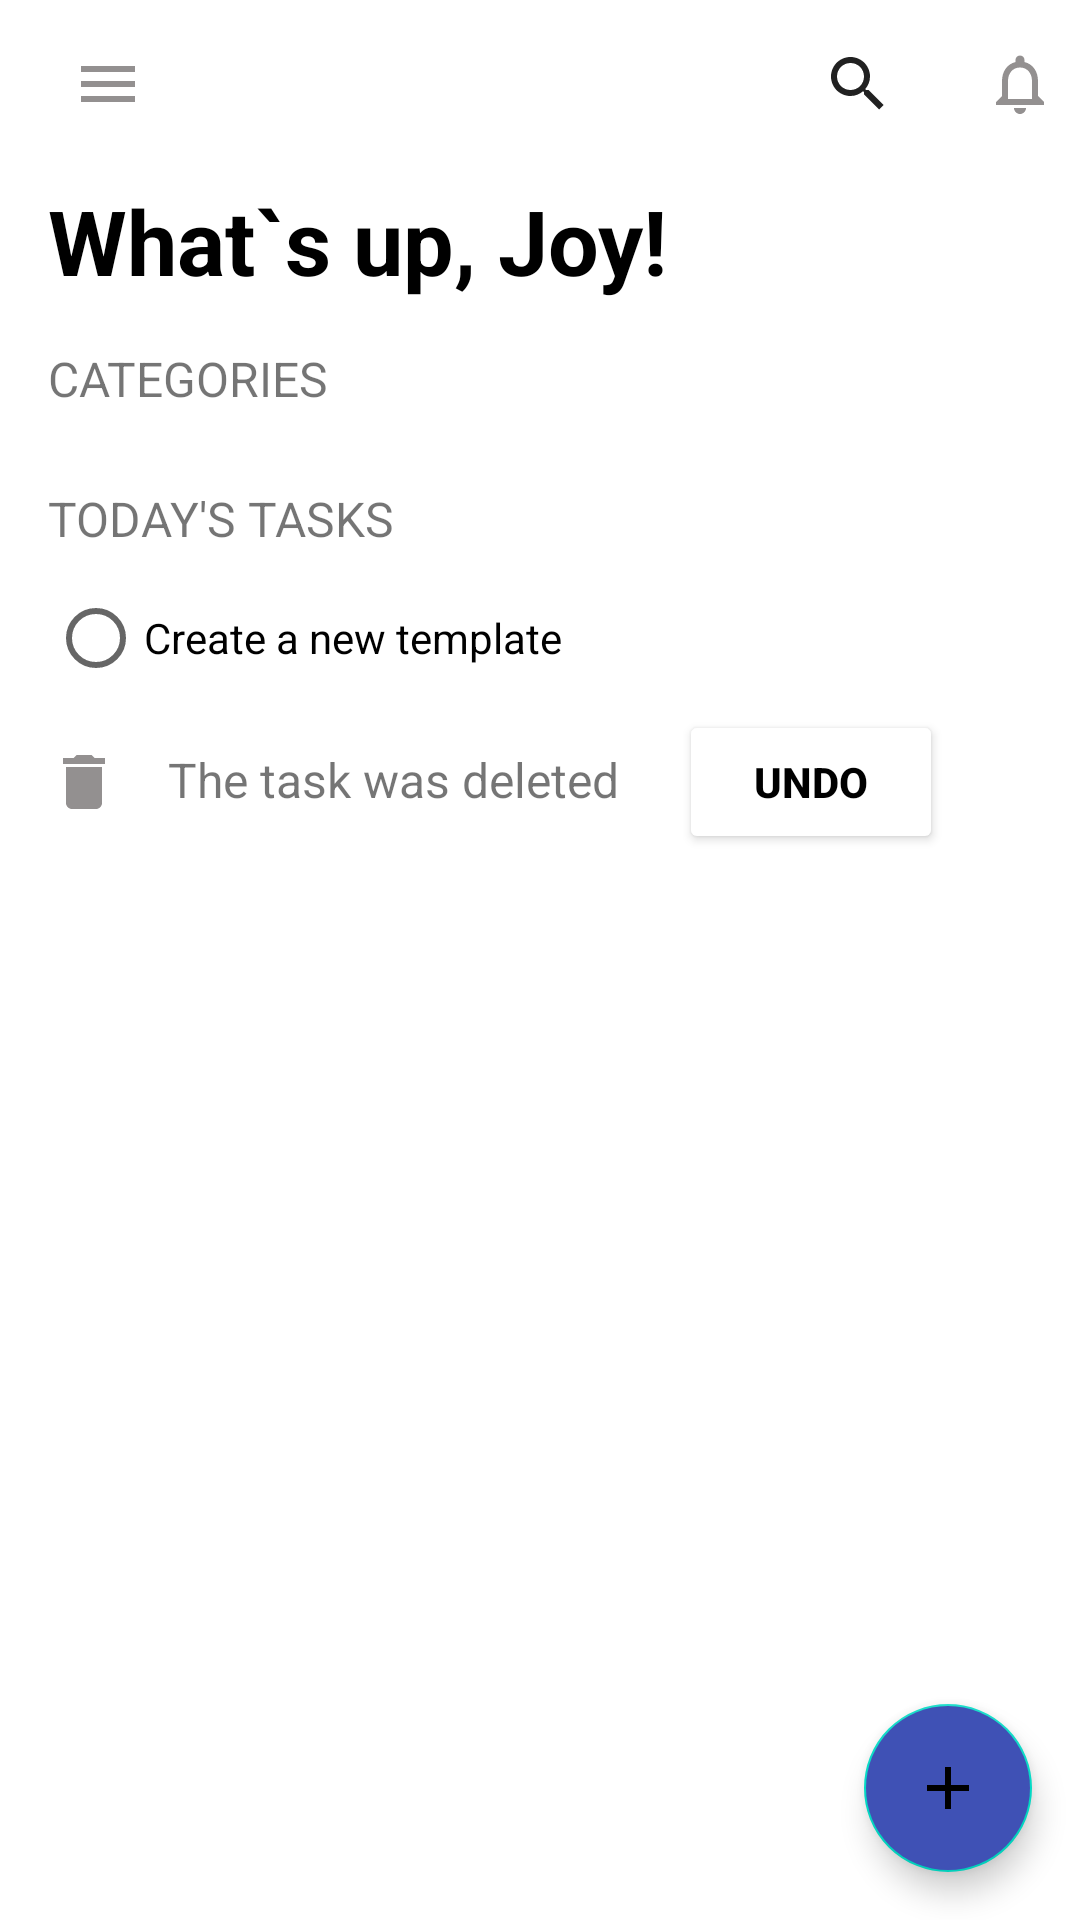

Icons on this 1080w x 1920h Android screen, each with the point to tap as [x,y]:
add: [948,1788]
menu: [108,84]
notifications: [1020,84]
